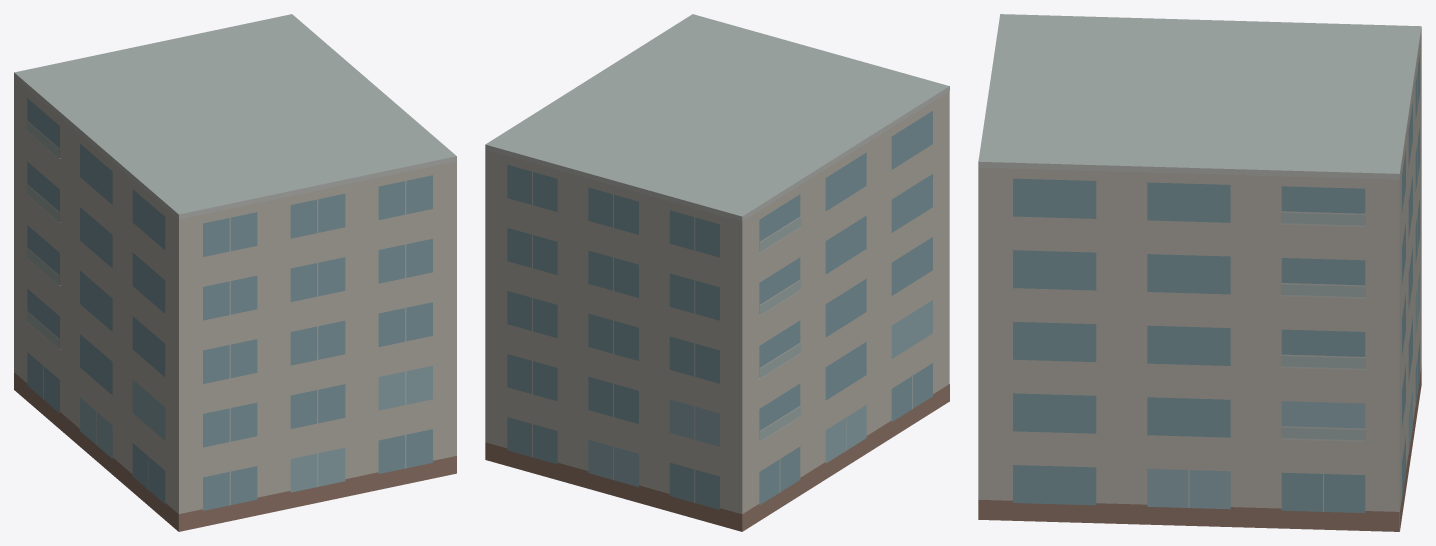
Rendered from survey-upis-33017492.glb.
3 renders of one model, left to right at view 1: azimuth 30°, elevation 25°; view 2: azimuth 150°, elevation 25°; view 3: azimuth 270°, elevation 25°, orthographic. The views are drawn at different scales.
Visible parts, largest first — view 1: survey-upis-33017492.tmp; view 2: survey-upis-33017492.tmp; view 3: survey-upis-33017492.tmp.
Boxes of the visible parts, left/top/right/bottom form: survey-upis-33017492.tmp: left=14, top=14, right=456, bottom=531; survey-upis-33017492.tmp: left=485, top=14, right=949, bottom=531; survey-upis-33017492.tmp: left=978, top=14, right=1421, bottom=531.
Size of the model in its own units: 14.61 by 15.25 by 17.12.
